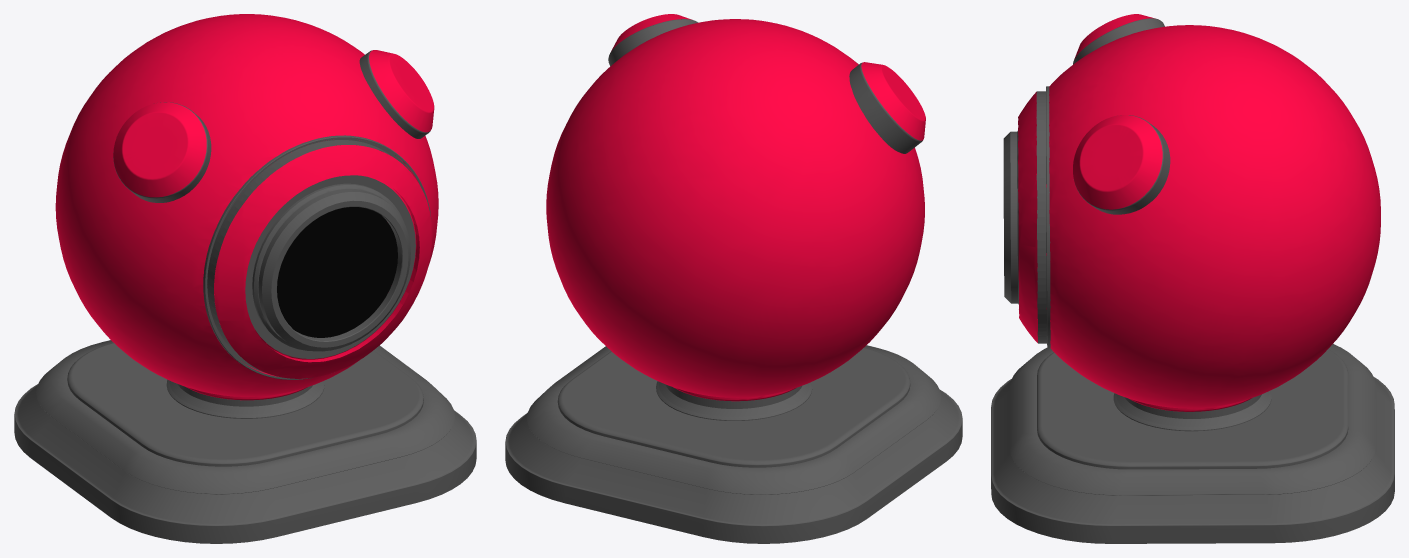
File: hush-frame-lite.glb
The picture shows the model from 3 angles, left to right: view 1: azimuth 30°, elevation 25°; view 2: azimuth 150°, elevation 25°; view 3: azimuth 270°, elevation 25°; orthographic projection.
Visible parts, largest first — view 1: webcam:pSphere3_webcam:Red_0, webcam:pSphere3_webcam:Dark_0, webcam:pSphere3_webcam:Camera_0; view 2: webcam:pSphere3_webcam:Red_0, webcam:pSphere3_webcam:Dark_0; view 3: webcam:pSphere3_webcam:Red_0, webcam:pSphere3_webcam:Dark_0.
Boxes of the visible parts, x1,y1,x2,y2 form: webcam:pSphere3_webcam:Red_0: (55, 14, 438, 400); webcam:pSphere3_webcam:Dark_0: (14, 50, 476, 543); webcam:pSphere3_webcam:Camera_0: (277, 207, 397, 337); webcam:pSphere3_webcam:Red_0: (546, 14, 925, 401); webcam:pSphere3_webcam:Dark_0: (505, 19, 962, 543); webcam:pSphere3_webcam:Red_0: (1018, 14, 1380, 411); webcam:pSphere3_webcam:Dark_0: (991, 18, 1394, 543).
Bounding box in the file's own units: 2 × 2.28 × 2.
